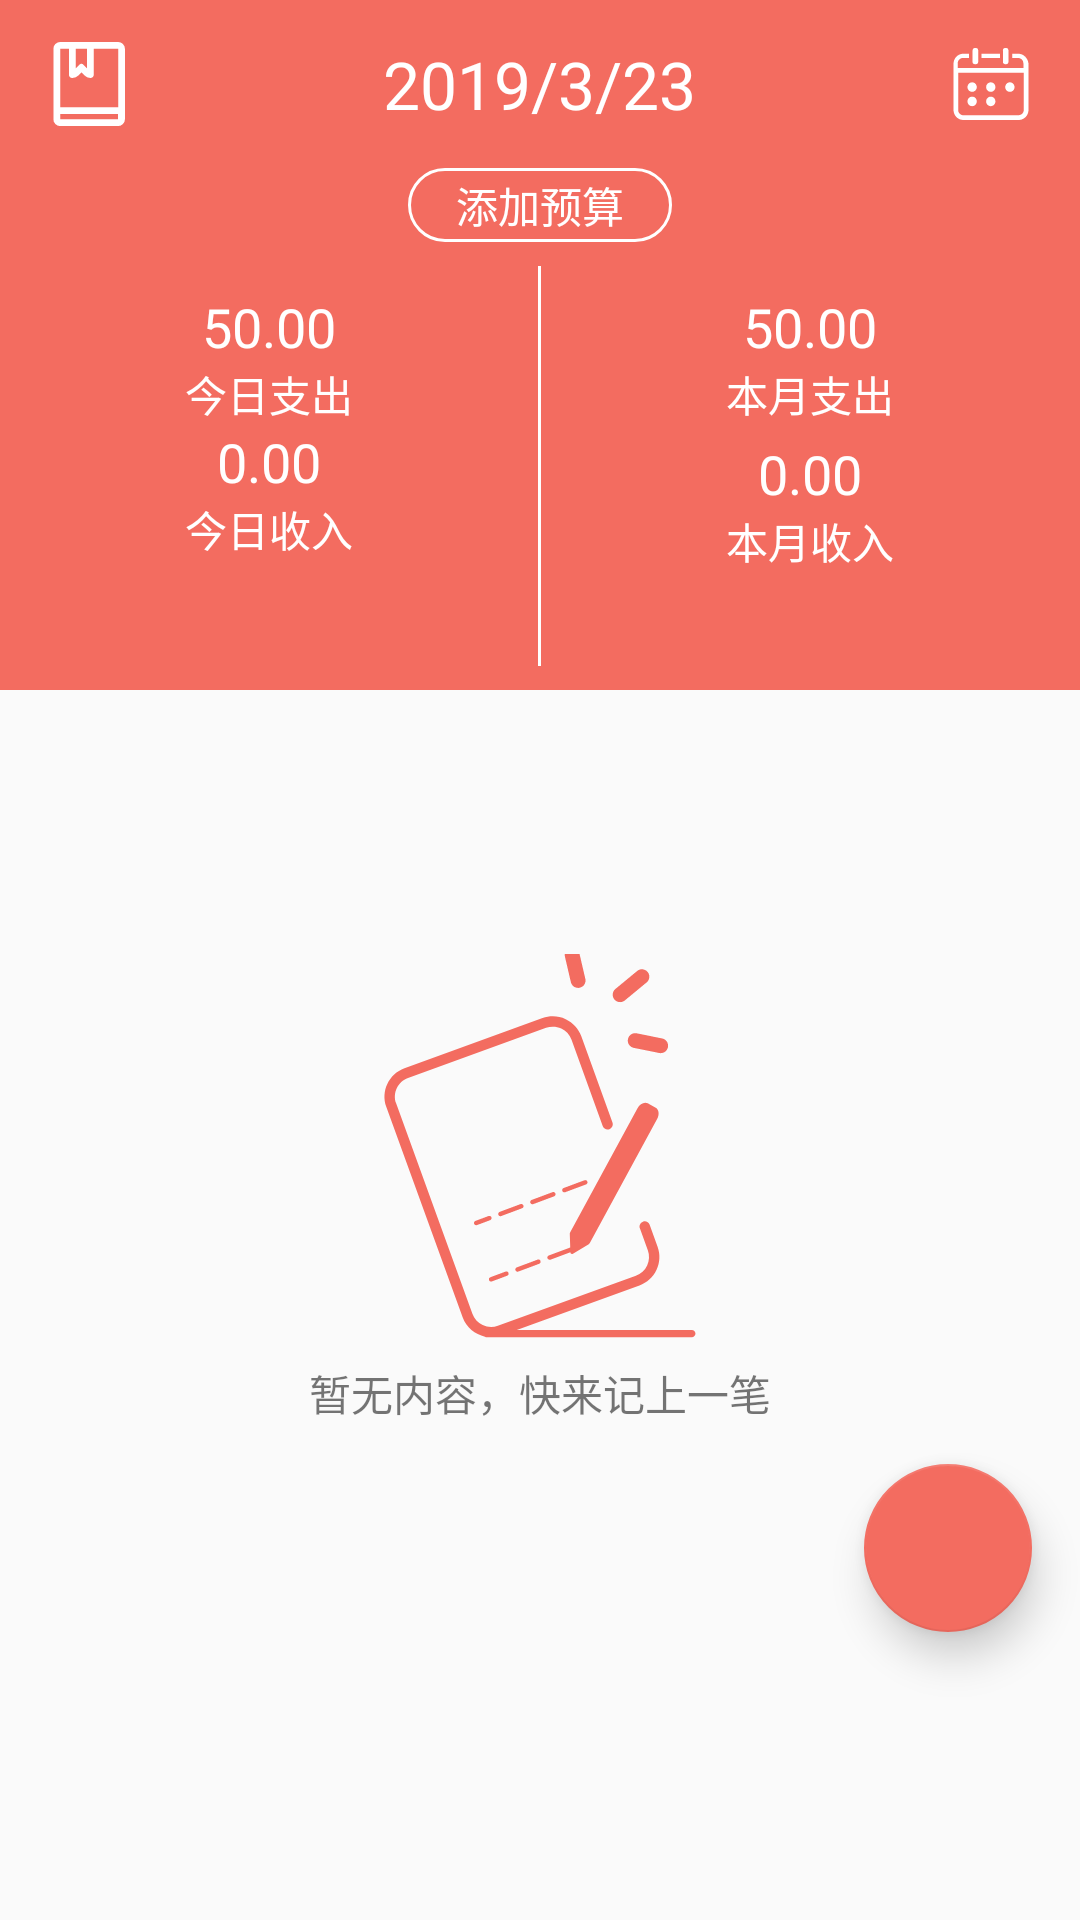

Named icons in this screenshot (1080*1920) and their bounding boxes, (x1, y1, x2, y2):
book wihte: (53, 42, 125, 126)
date: (953, 48, 1029, 120)
